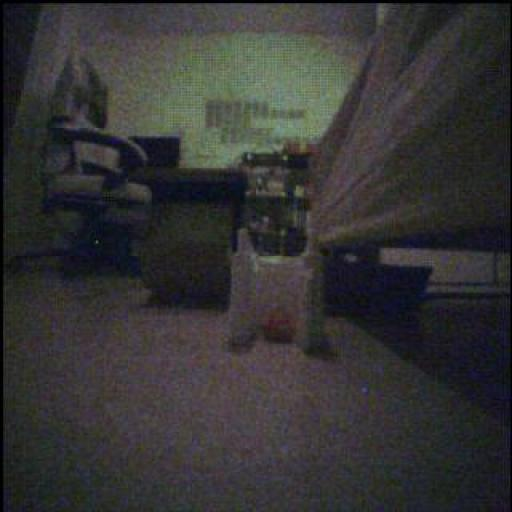basket: (265, 304, 294, 346)
